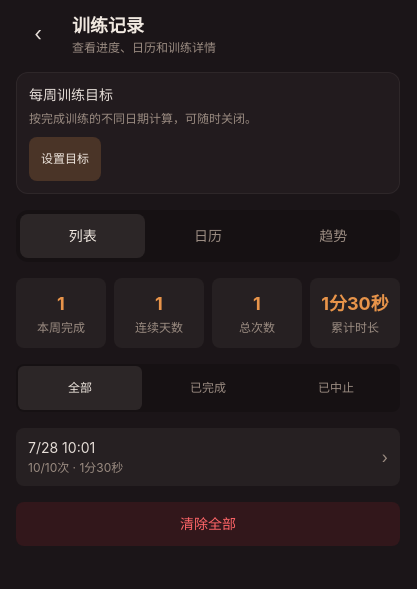
Test case: TrainingHistory detail navigation › shows a filter-specific empty state
Click the button "已中止" at (336, 388), box x1=274 y1=366 x2=398 y2=410
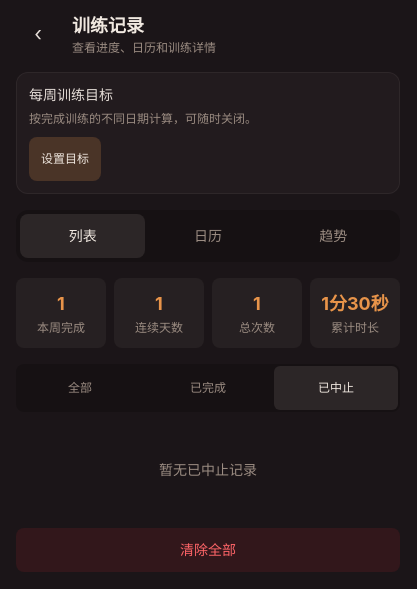
Now the text "暂无已中止记录" is shown, box x1=159 y1=461 x2=257 y2=478
